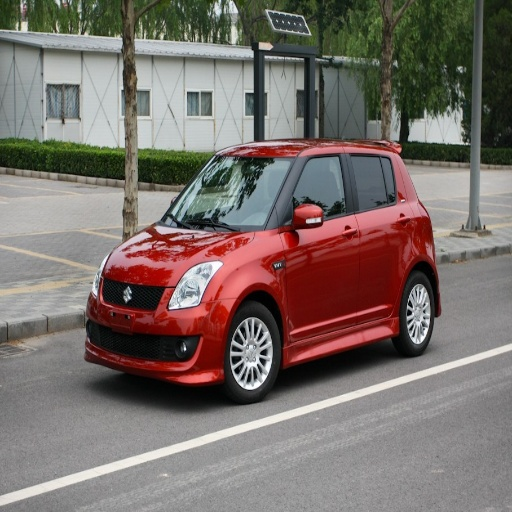front_bumper: (86, 279, 222, 384)
front_glass: (159, 151, 295, 232)
front_left_door: (280, 149, 359, 339)
